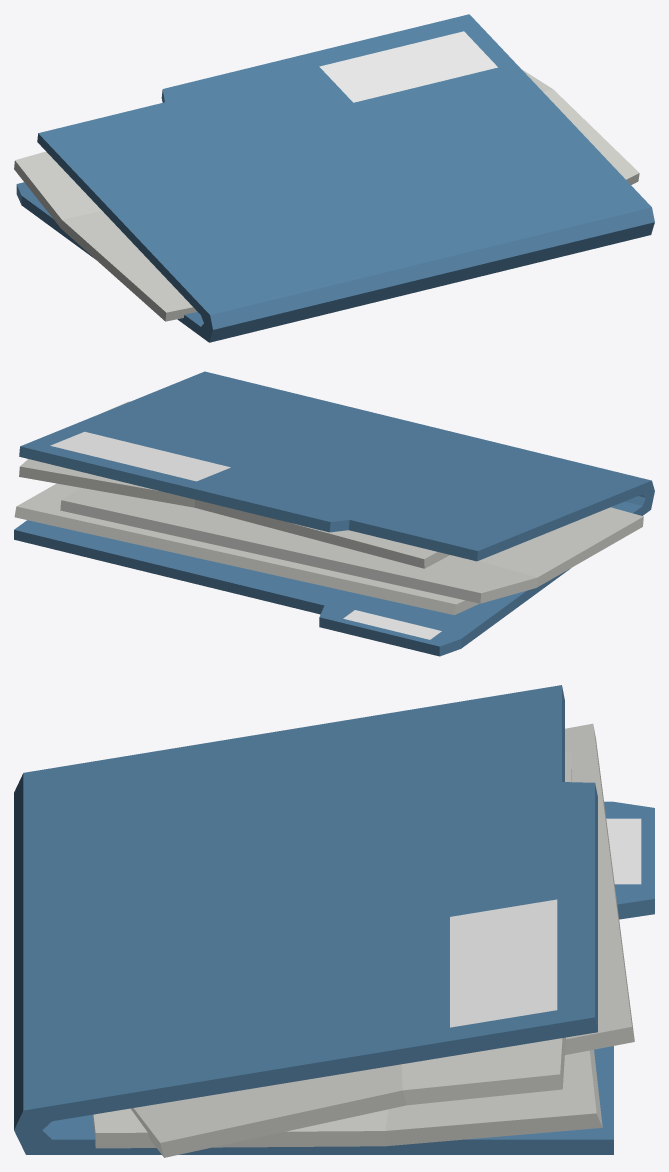
Rendered from FileFolder.FBX.
3 views of the same model, one above another, from view 1: azimuth 30°, elevation 25°; view 2: azimuth 150°, elevation 25°; view 3: azimuth 270°, elevation 25° (orthographic). The views are drawn at different scales.
Visible parts, largest first — view 1: FileFolder; view 2: FileFolder; view 3: FileFolder.
Part boxes in pixels (left/top/right/bottom): FileFolder: left=14, top=14, right=654, bottom=342; FileFolder: left=14, top=371, right=654, bottom=656; FileFolder: left=14, top=685, right=654, bottom=1157.
Size of the model in its own units: 42.49 by 7.26 by 30.66.
